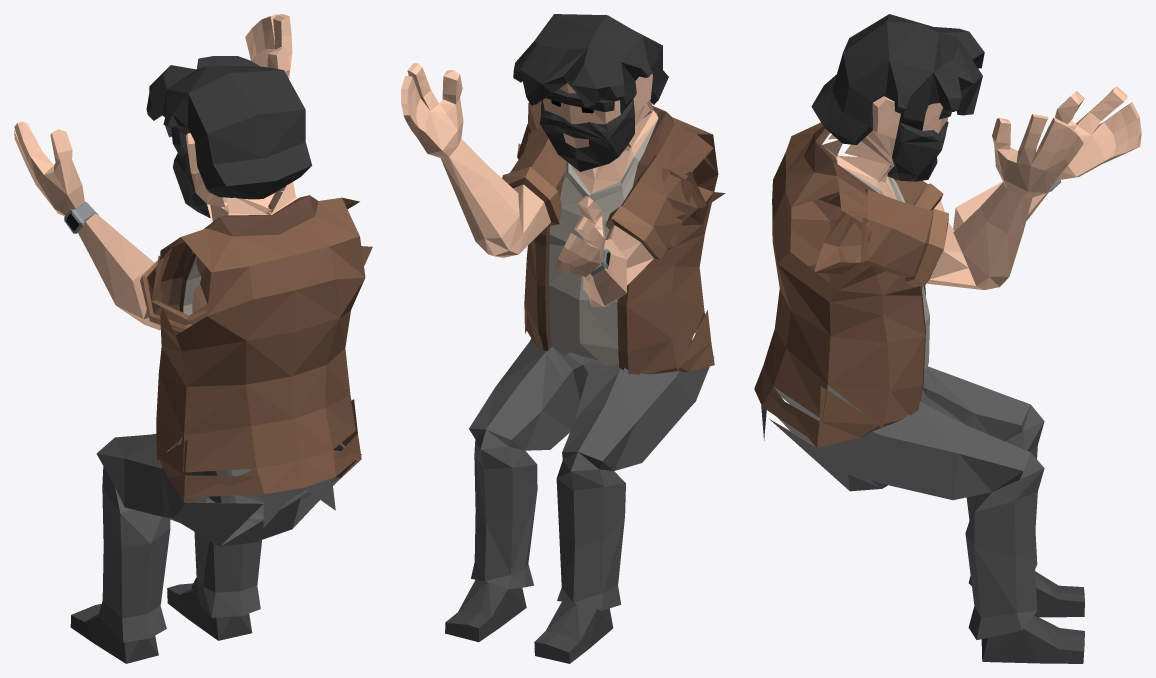
The model's file is Satan_air_drums.obj.
3 renders of one model, left to right at view 1: azimuth 30°, elevation 25°; view 2: azimuth 150°, elevation 25°; view 3: azimuth 270°, elevation 25°, orthographic. The views are drawn at different scales.
Parts seen in each view (by area): view 1: Satan_air_drums; view 2: Satan_air_drums; view 3: Satan_air_drums.
Part boxes in pixels (<box>): Satan_air_drums: <box>14,14,372,663</box>; Satan_air_drums: <box>401,14,725,663</box>; Satan_air_drums: <box>754,14,1141,663</box>.
Bounding box in the file's own units: 0.5931 × 1.46 × 0.8472.
1 material, 1 textured.
